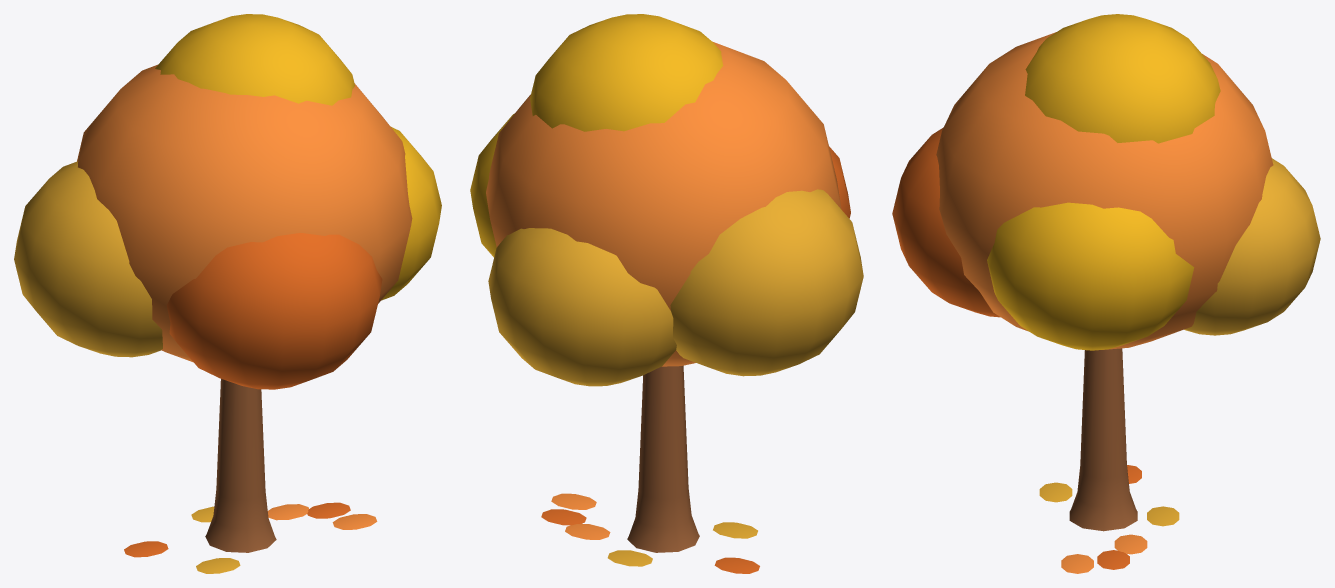
File: arvore_outono.glb
3 views of the same model, side by side, from view 1: azimuth 30°, elevation 25°; view 2: azimuth 150°, elevation 25°; view 3: azimuth 270°, elevation 25° (orthographic). The views are drawn at different scales.
Parts seen in each view (by area): view 1: arvore_outono; view 2: arvore_outono; view 3: arvore_outono.
Boxes of the visible parts, bbox=[...] form: arvore_outono: bbox=[14, 14, 441, 573]; arvore_outono: bbox=[470, 14, 863, 573]; arvore_outono: bbox=[892, 14, 1320, 573].
Size of the model in its own units: 4.59 by 5.84 by 4.53.
1 material, 1 textured.
